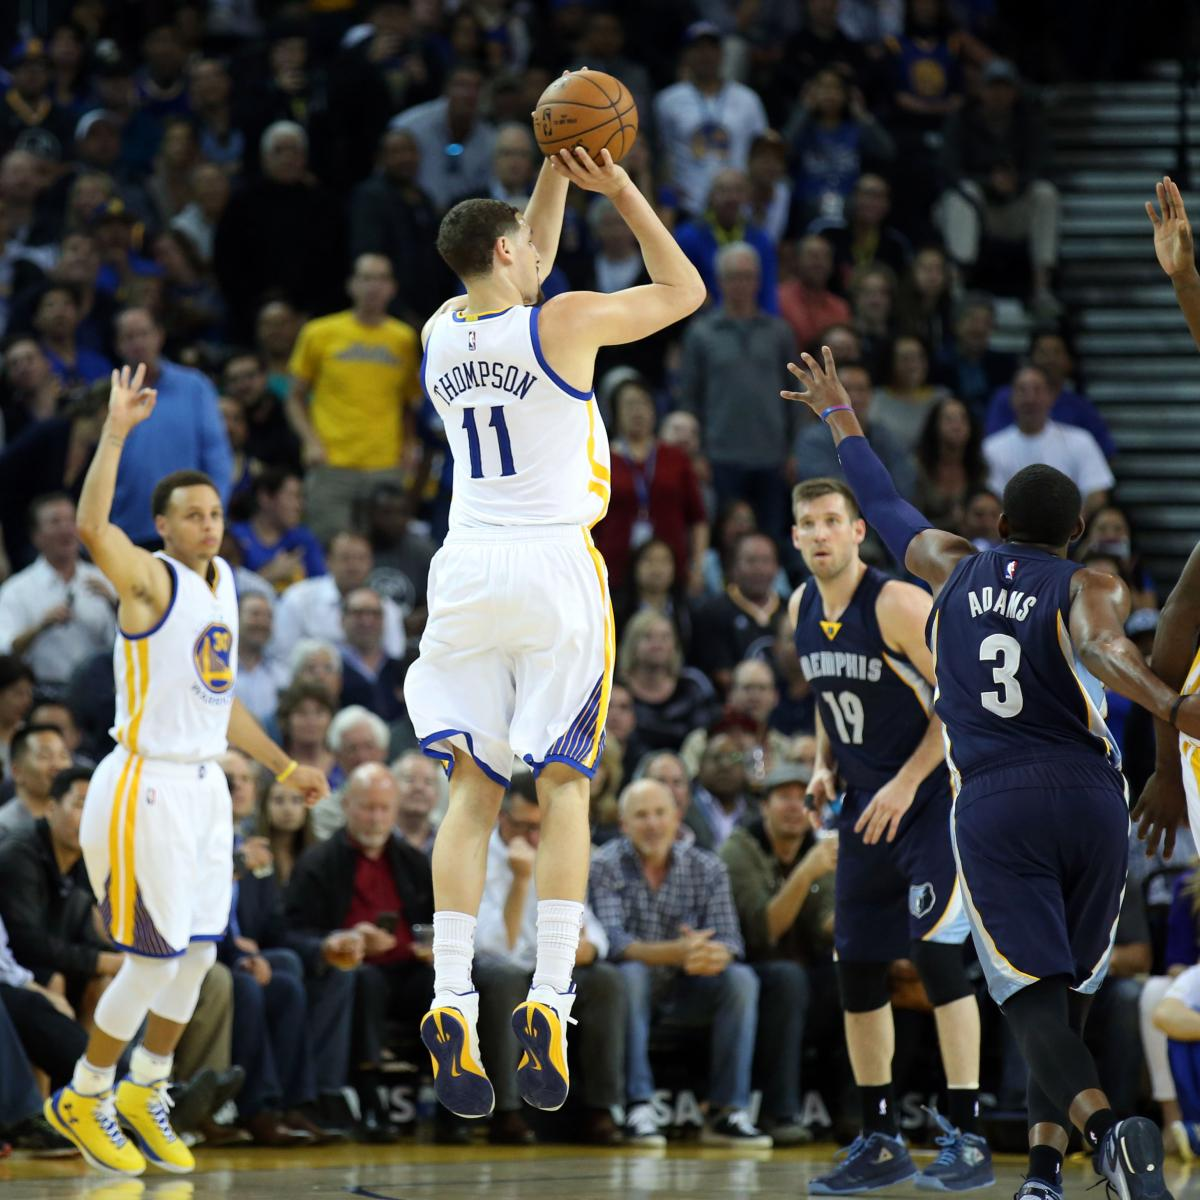Jumpshot: (521, 68, 705, 310)
